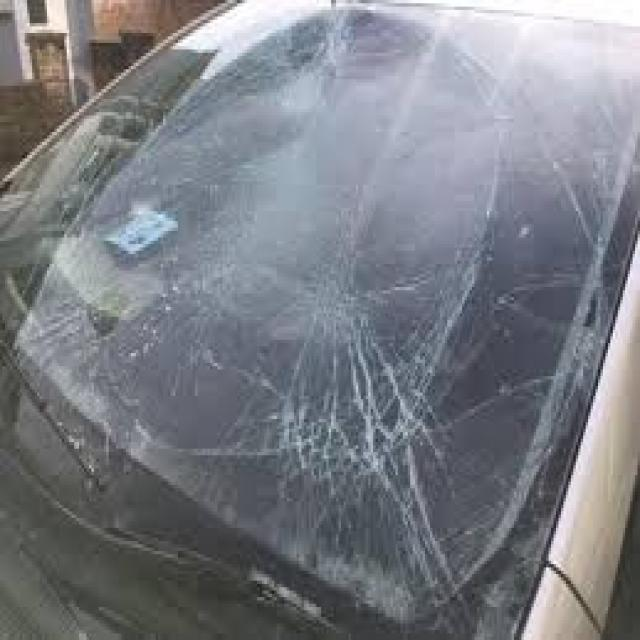damaged-windscreen: (1, 0, 626, 640)
